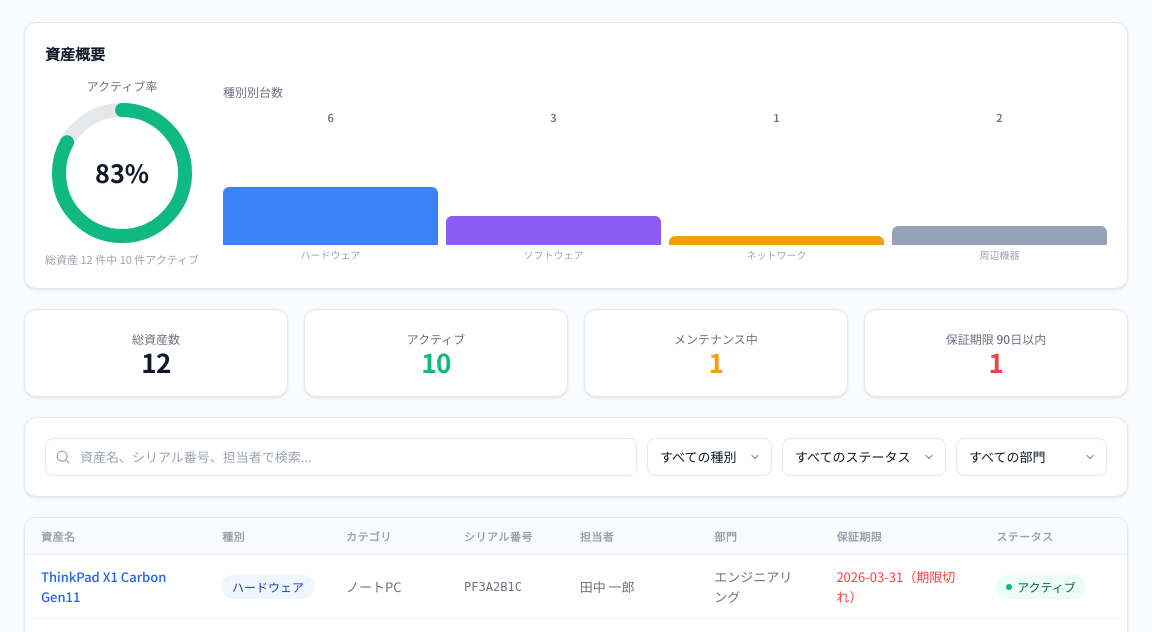
Test case: Assets page - combined filter + pagination interaction › filtering reduces pages: type=network → 1 result → page 1 only
Select "ネットワーク" in the 1st dropdown. click: (710, 457)
box: [647,438,772,476]
(page scrolled)
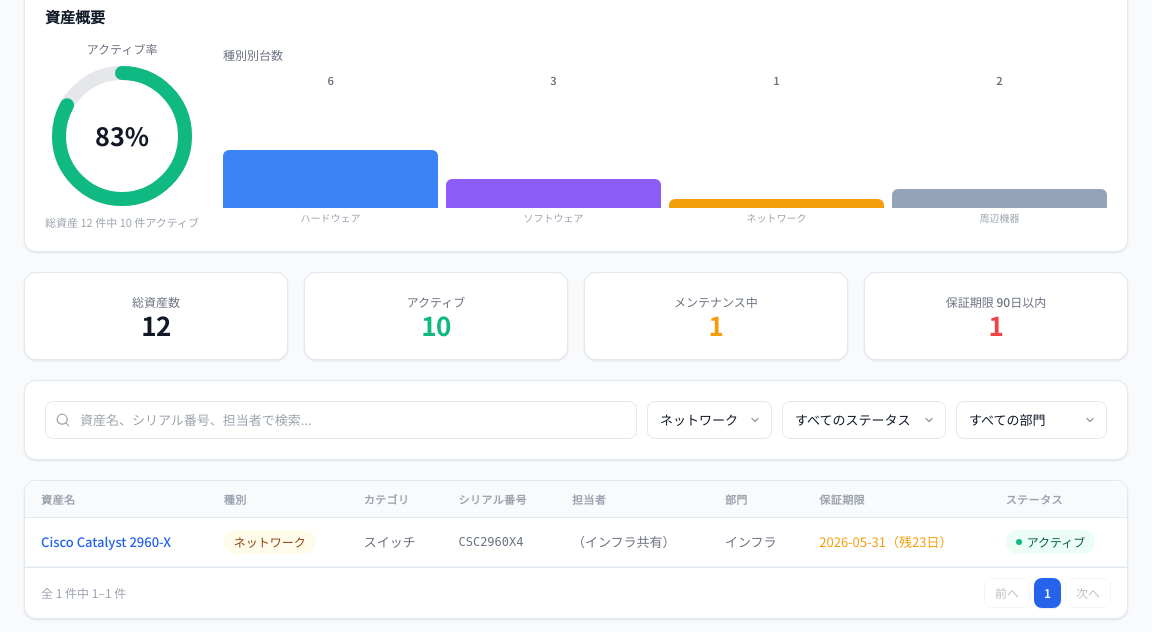
Check: the button "次へ" is disabled, box [1065,578,1111,608]
